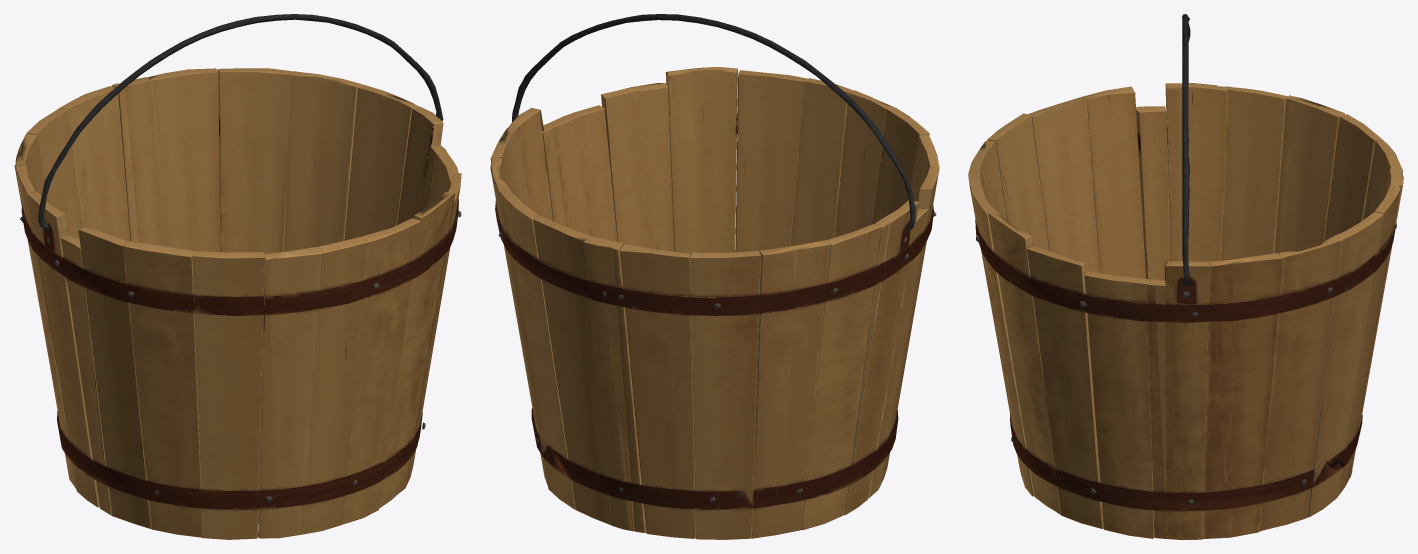
The model's file is stable_bucket.glb.
3 renders of one model, left to right at view 1: azimuth 30°, elevation 25°; view 2: azimuth 150°, elevation 25°; view 3: azimuth 270°, elevation 25°, orthographic. The views are drawn at different scales.
Visible parts, largest first — view 1: Horse_Stable_Bucket; view 2: Horse_Stable_Bucket; view 3: Horse_Stable_Bucket.
Boxes of the visible parts, x1,y1,x2,y2 form: Horse_Stable_Bucket: [14, 14, 461, 539]; Horse_Stable_Bucket: [490, 14, 939, 539]; Horse_Stable_Bucket: [968, 14, 1403, 539].
Size of the model in its own units: 0.5662 by 0.6 by 0.5483.
1 material, 1 textured.
